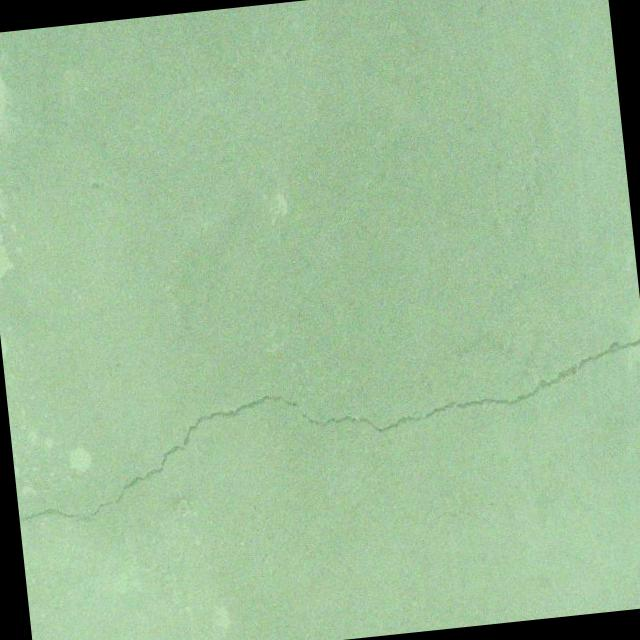crack: (7, 337, 640, 528)
